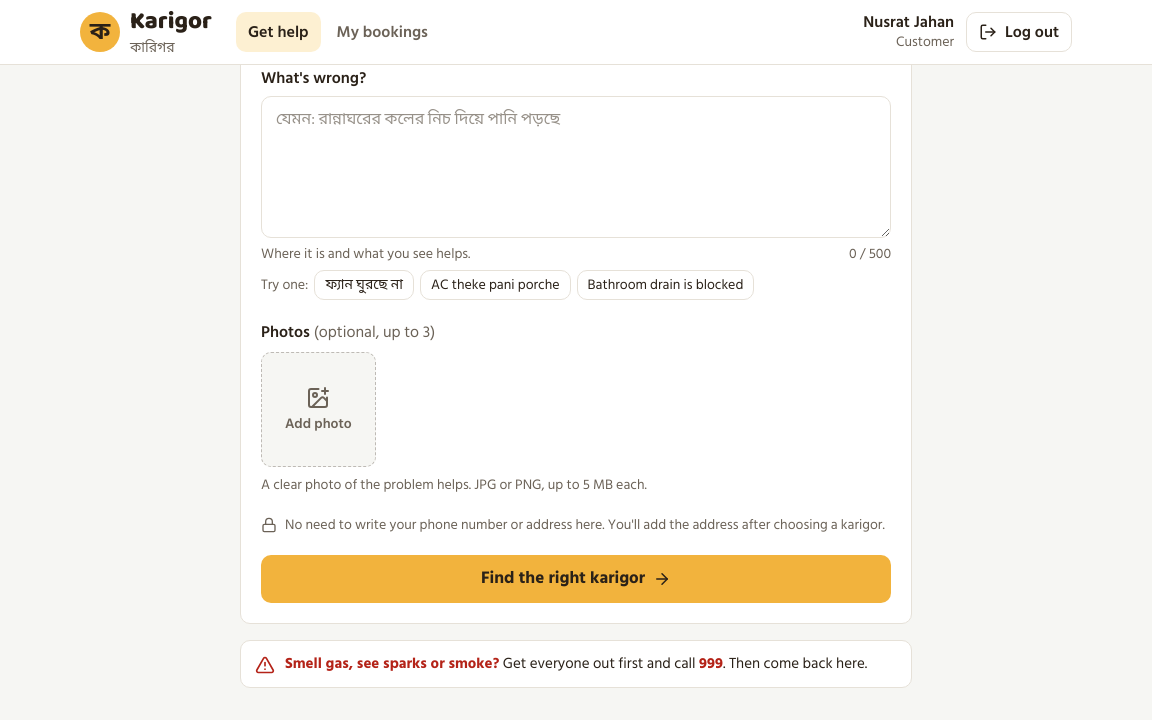
describe it › asks for words or a photo before sending
(page scrolled)
Click the button "Find the right karigor" at (576,579), box x1=261 y1=555 x2=891 y2=603
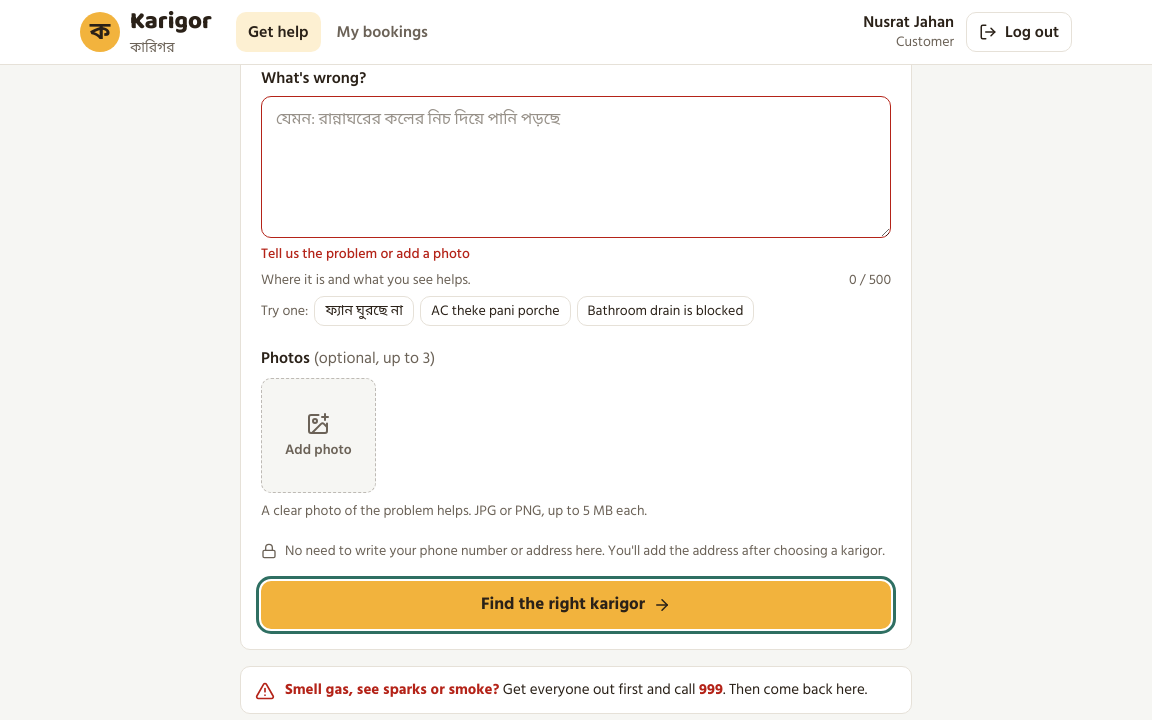
expect the text "Tell us the problem or add a photo" is shown: met, box x1=261 y1=242 x2=470 y2=265
